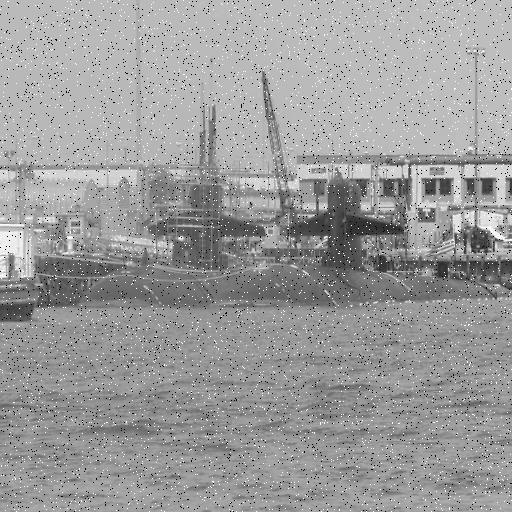submarine: (68, 181, 512, 302)
